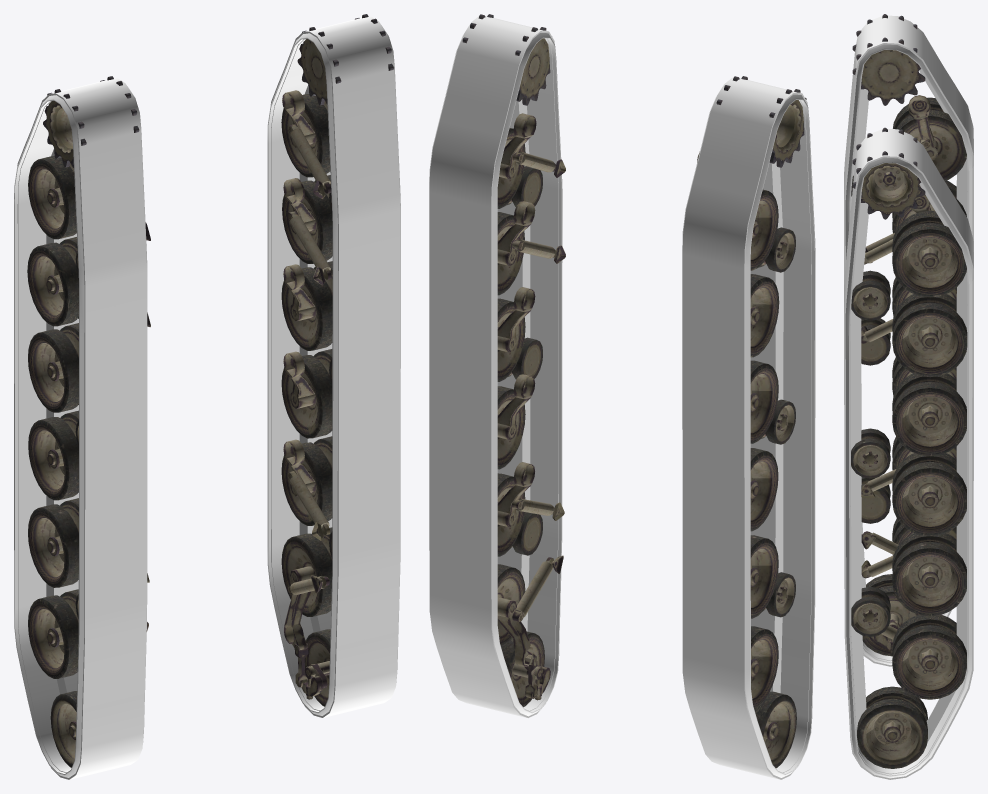
Rendered from Chassis.glb.
The picture shows the model from 3 angles, left to right: view 1: azimuth 30°, elevation 25°; view 2: azimuth 150°, elevation 25°; view 3: azimuth 270°, elevation 25°; orthographic projection. The views are drawn at different scales.
Parts seen in each view (by area): view 1: set_0_group_0, set_1_group_0, set_3_group_0, set_2_group_0; view 2: set_0_group_0, set_1_group_0, set_3_group_0, set_2_group_0; view 3: set_3_group_0, set_1_group_0, set_2_group_0, set_0_group_0.
Boxes of the visible parts, x1,y1,x2,y2 form: set_0_group_0: (14,78,147,779); set_1_group_0: (267,16,400,717); set_3_group_0: (281,14,393,706); set_2_group_0: (27,76,150,767); set_0_group_0: (682,77,815,779); set_1_group_0: (429,16,562,717); set_3_group_0: (462,14,565,706); set_2_group_0: (697,76,806,768); set_3_group_0: (851,127,967,768); set_1_group_0: (844,128,973,779); set_2_group_0: (851,14,966,656); set_0_group_0: (844,15,973,666).
Size of the model in its own units: 2.98 by 6.07 by 1.14.
Materials: 4 (2 with a texture image).
